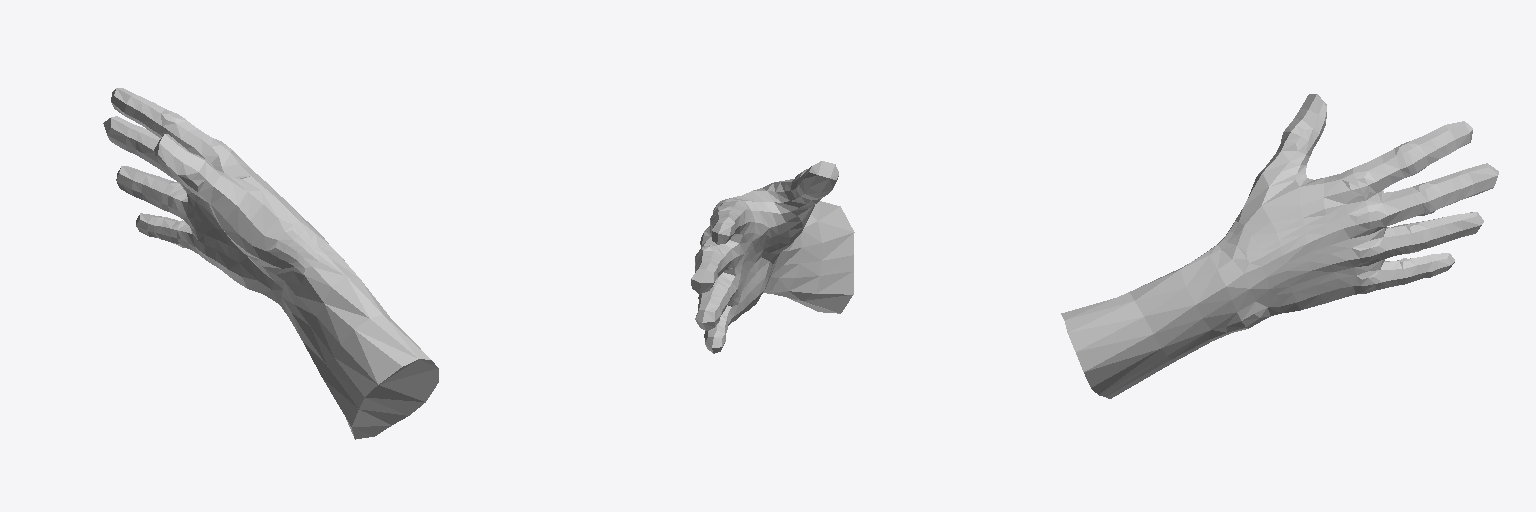
File: main.obj
3 renders of one model, left to right at view 1: azimuth 30°, elevation 25°; view 2: azimuth 150°, elevation 25°; view 3: azimuth 270°, elevation 25°, orthographic.
Visible parts, largest first — view 1: Object.1; view 2: Object.1; view 3: Object.1.
Part boxes in pixels (bbox=[...]): Object.1: bbox=[103, 88, 438, 439]; Object.1: bbox=[691, 161, 854, 353]; Object.1: bbox=[1061, 94, 1498, 398].
Bounding box in the file's own units: 1.55 × 2.22 × 3.49.